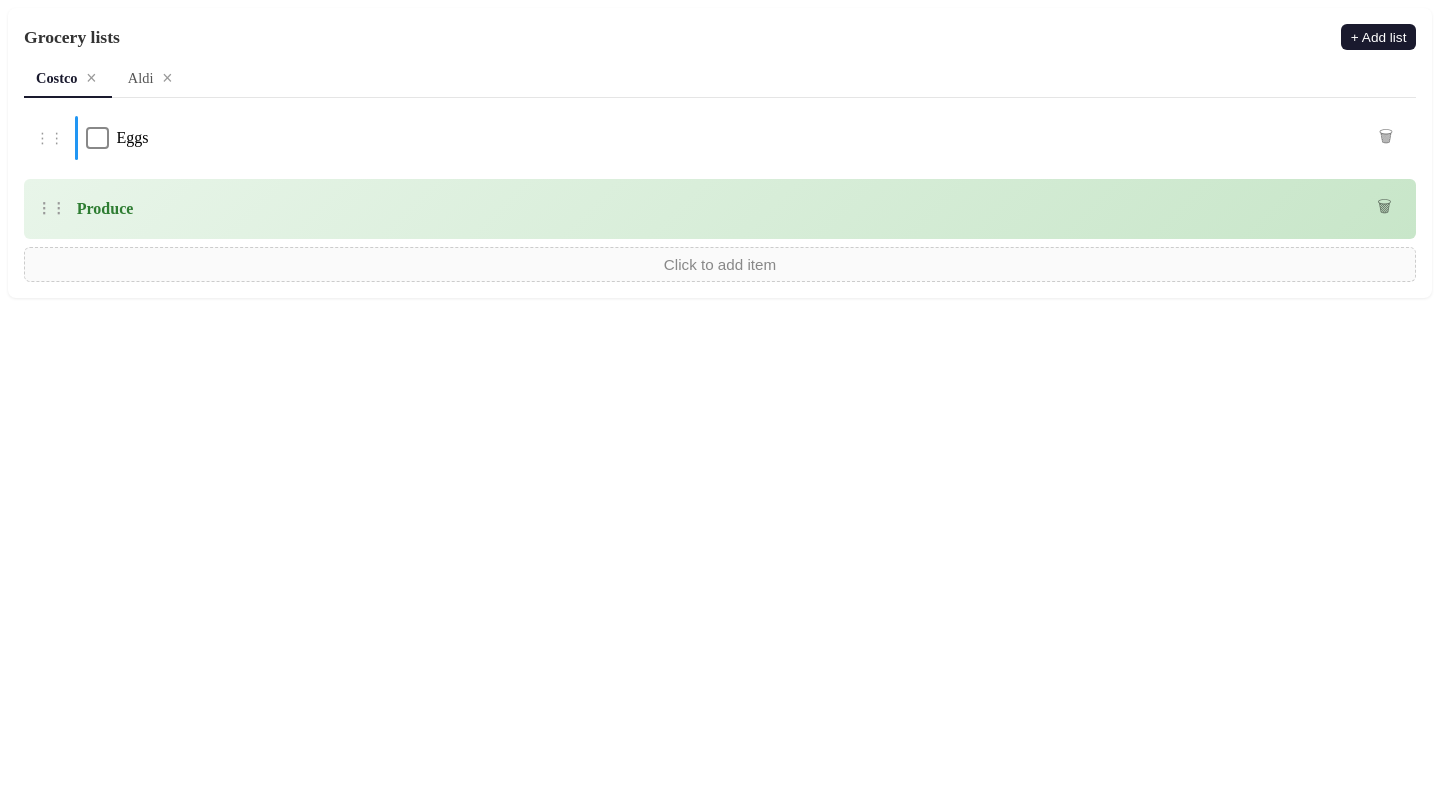
GroceryLists other flows › shows an error when list delete fails
The width and height of the screenshot is (1440, 810).
Click the button named "Delete Costco". click: (92, 79)
box: [83, 70, 100, 88]
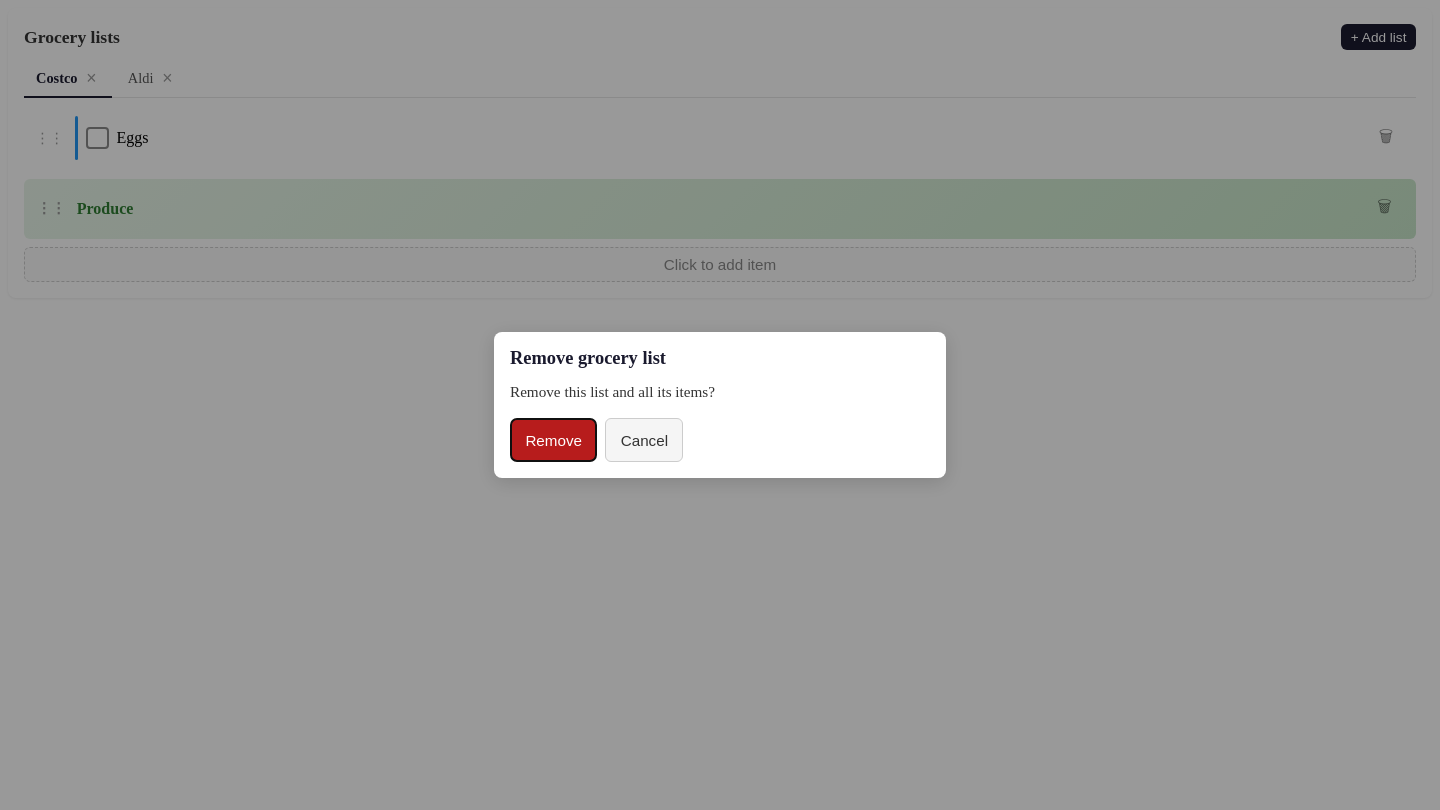
Click the button "Remove". click: (554, 440)
box: [510, 418, 597, 462]
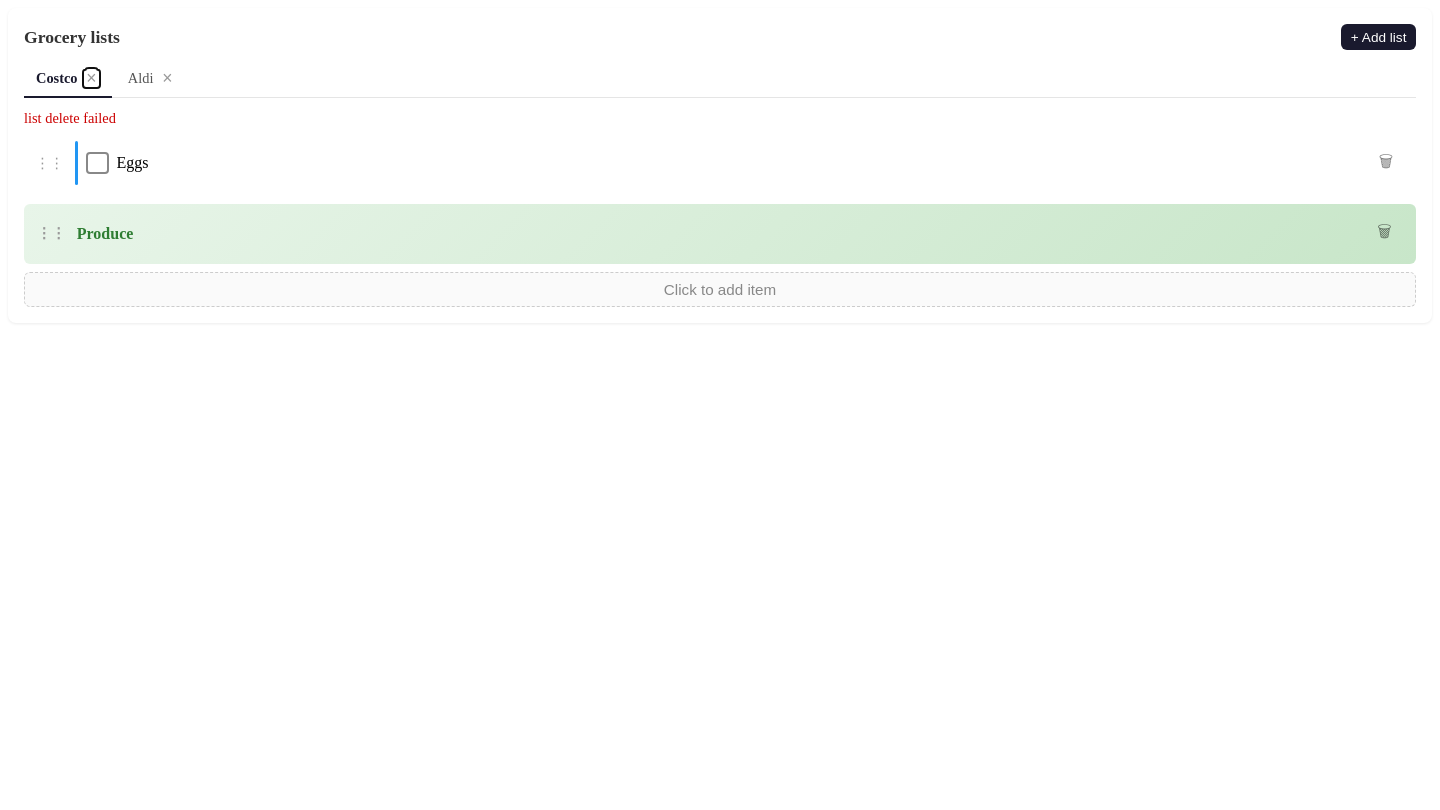
expect the text "list delete failed" is shown: met, box [24, 110, 116, 126]
